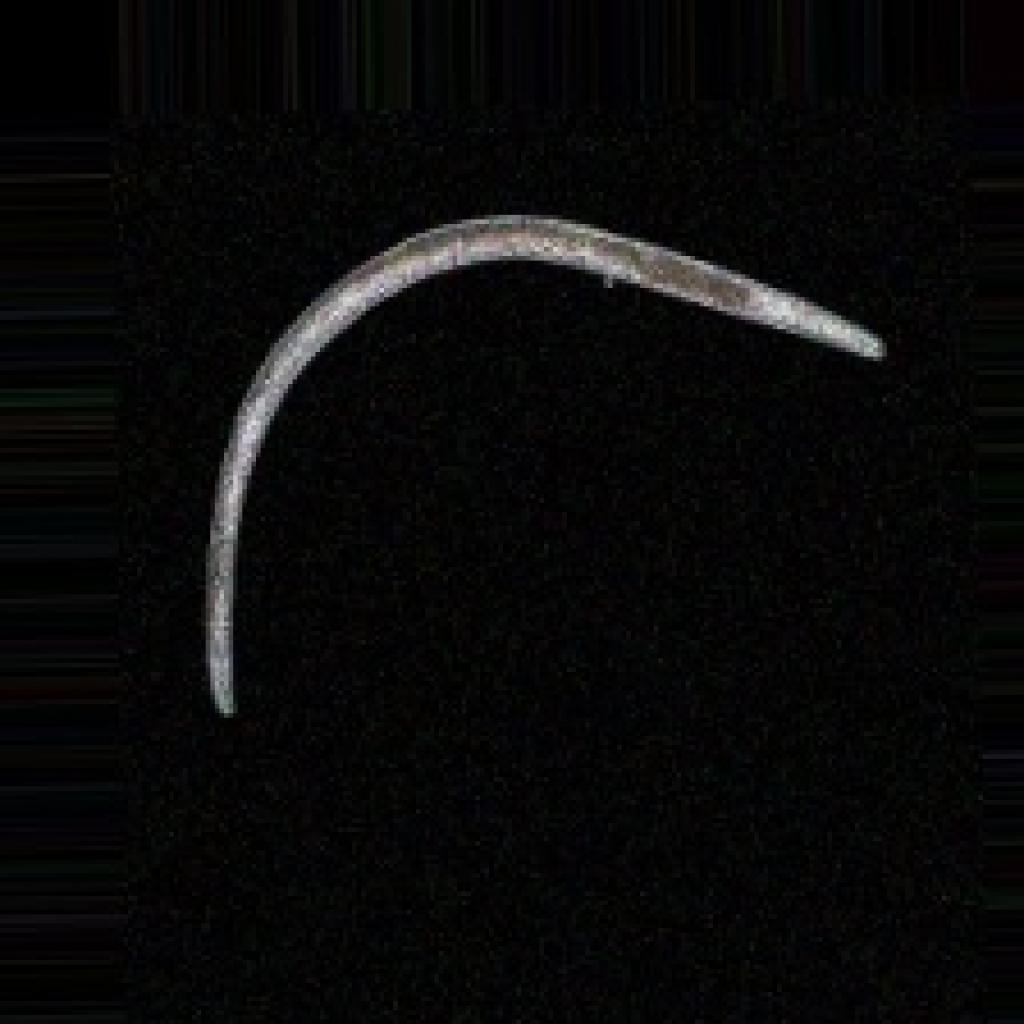Nematode: (192, 206, 891, 718)
